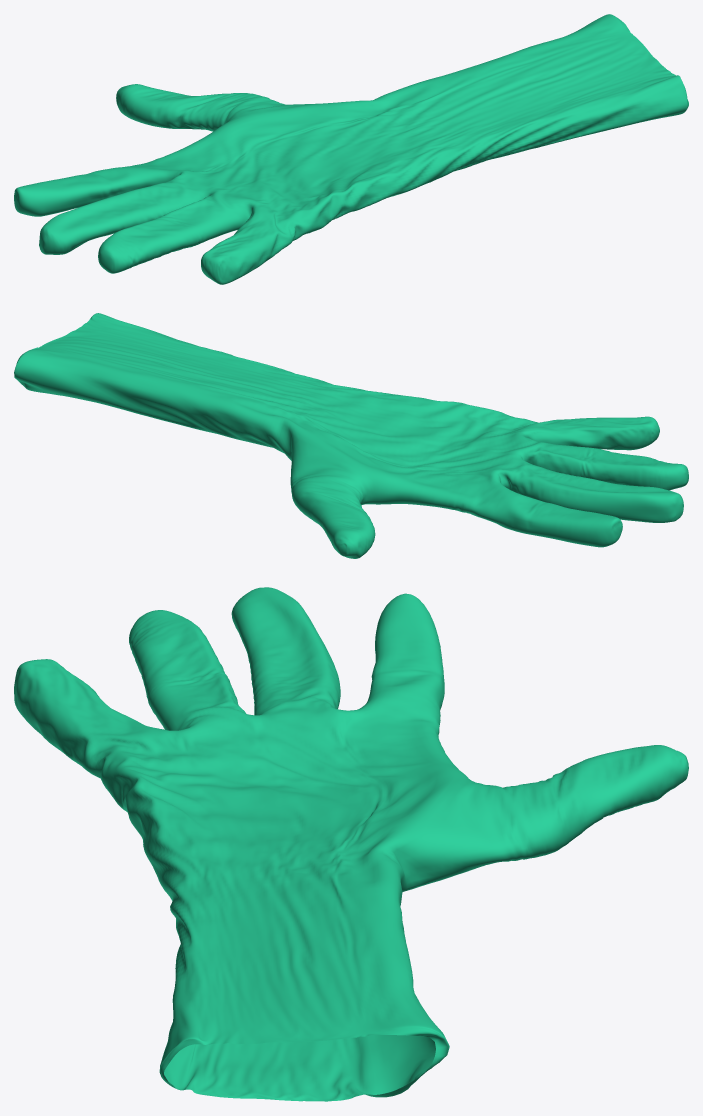
Rendered from glove.fbx.
The picture shows the model from 3 angles, top to bottom: view 1: azimuth 30°, elevation 25°; view 2: azimuth 150°, elevation 25°; view 3: azimuth 270°, elevation 25°; orthographic projection. The views are drawn at different scales.
Visible parts, largest first — view 1: Cube; view 2: Cube; view 3: Cube.
Boxes of the visible parts, x1,y1,x2,y2 form: Cube: (14, 14, 688, 284); Cube: (14, 313, 688, 558); Cube: (14, 587, 688, 1101).
Bounding box in the file's own units: 499 × 42.57 × 288.
